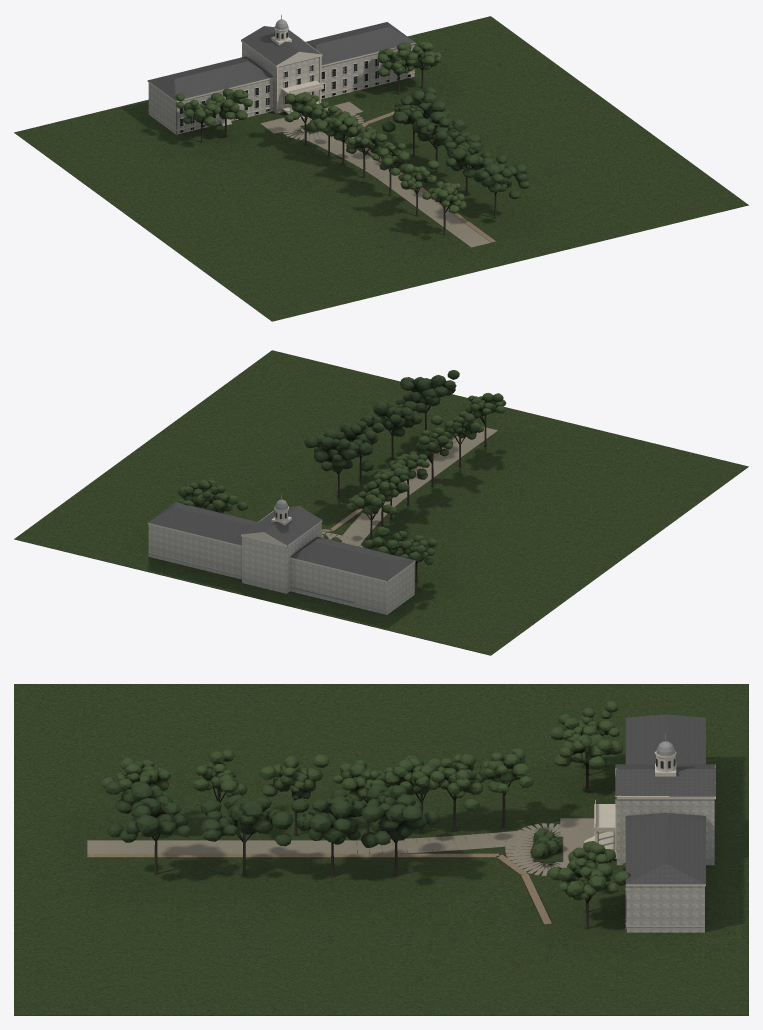
The model's file is naismith-mcgill-old-hall.glb.
The picture shows the model from 3 angles, top to bottom: view 1: azimuth 30°, elevation 25°; view 2: azimuth 150°, elevation 25°; view 3: azimuth 270°, elevation 25°; orthographic projection. The views are drawn at different scales.
Visible parts, largest first — view 1: lawns, roofs, artifact_old_hall, drive, windows, tree_right_10, tree_right_8, tree_right_7, tree_right_9, artifact_avenue_tree, tree_left_2, tree_wing_11 (+10 smaller); view 2: lawns, artifact_old_hall, roofs, drive, tree_right_10, tree_right_7, tree_right_8, tree_left_1, tree_right_9, tree_left_6, tree_left_2, artifact_avenue_tree (+6 smaller); view 3: lawns, roofs, drive, artifact_old_hall, tree_right_7, tree_right_10, tree_right_8, tree_right_9, artifact_boardwalk, tree_left_2, tree_wing_14, tree_wing_12 (+11 smaller).
Boxes of the visible parts, box(x1,y1,x2,y2) form: lawns: box(14, 16, 748, 321); roofs: box(148, 22, 415, 100); artifact_old_hall: box(147, 40, 415, 134); drive: box(260, 101, 490, 247); windows: box(179, 49, 411, 133); tree_right_10: box(382, 86, 448, 156); tree_right_8: box(444, 131, 497, 195); tree_right_7: box(473, 155, 530, 218); tree_right_9: box(412, 111, 466, 172); artifact_avenue_tree: box(422, 181, 466, 235); tree_left_2: box(372, 133, 409, 196); tree_wing_11: box(175, 93, 227, 142); lawns: box(14, 350, 748, 655); artifact_old_hall: box(147, 520, 415, 614); roofs: box(148, 502, 415, 580); drive: box(321, 427, 497, 547); tree_right_10: box(304, 429, 373, 497); tree_right_7: box(396, 370, 459, 430); tree_right_8: box(360, 401, 422, 458); tree_left_1: box(431, 411, 483, 466); tree_right_9: box(337, 421, 384, 481); tree_left_6: box(346, 488, 397, 539); tree_left_2: box(415, 427, 452, 486); artifact_avenue_tree: box(465, 393, 506, 447); lawns: box(14, 684, 748, 1015); roofs: box(615, 714, 715, 884); drive: box(87, 818, 594, 880); artifact_old_hall: box(615, 796, 715, 932); tree_right_7: box(105, 781, 191, 874); tree_right_10: box(361, 783, 440, 876); tree_right_8: box(200, 794, 293, 876); tree_right_9: box(291, 789, 365, 876); artifact_boardwalk: box(87, 853, 551, 924); tree_left_2: box(259, 754, 328, 835); tree_wing_14: box(547, 858, 630, 929); tree_wing_12: box(553, 726, 623, 792).
Size of what is drawn, in the model's own units: 160 by 26.8 by 150.
Materials: 4 (3 with a texture image).
